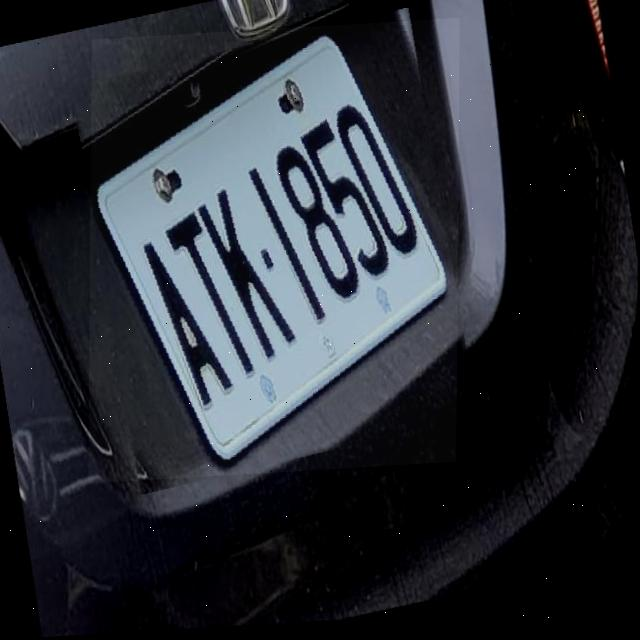LicensePlate: (91, 29, 458, 479)
